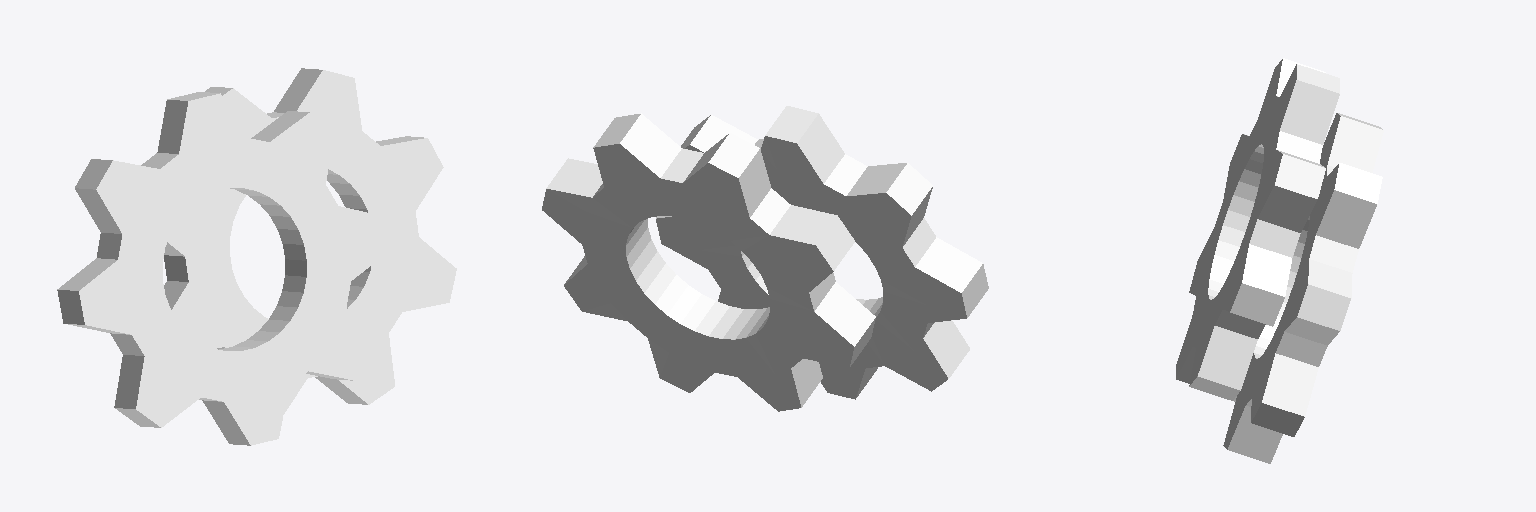
File: Gear.obj
3 renders of one model, left to right at view 1: azimuth 30°, elevation 25°; view 2: azimuth 150°, elevation 25°; view 3: azimuth 270°, elevation 25°, orthographic.
Visible parts, largest first — view 1: Gear, GearRust; view 2: GearRust, Gear; view 3: Gear, GearRust.
Boxes of the visible parts, x1=… form: Gear: x1=57, y1=92, x2=390, y2=445; GearRust: x1=164, y1=68, x2=456, y2=413; GearRust: x1=542, y1=113, x2=875, y2=411; Gear: x1=656, y1=106, x2=988, y2=399; Gear: x1=1176, y1=58, x2=1339, y2=400; GearRust: x1=1223, y1=113, x2=1383, y2=463.
Bounding box in the file's own units: 9.67 × 7.69 × 4.45.